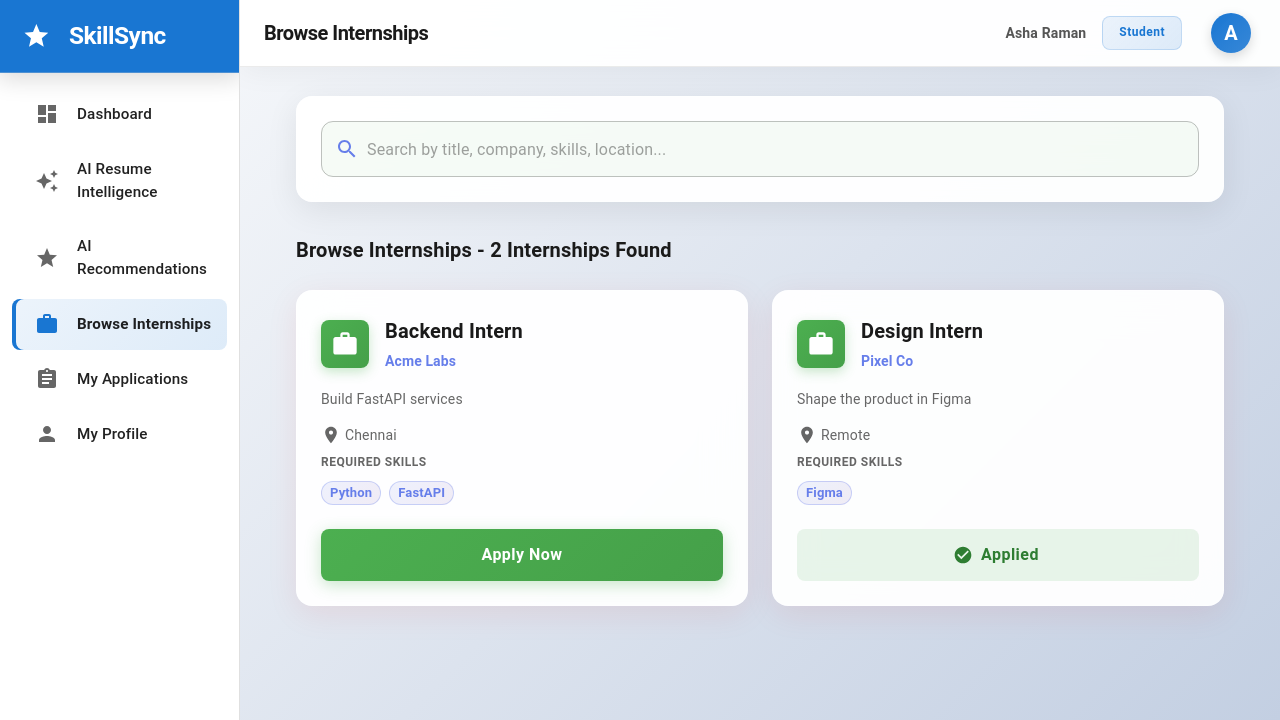
Test: a student sees which internships they already applied to, and the list updates after applying
Expected: the button "Applied" is disabled, [797,529,1199,581]
Click the button "Apply Now": point(522, 555) [321,529,723,581]
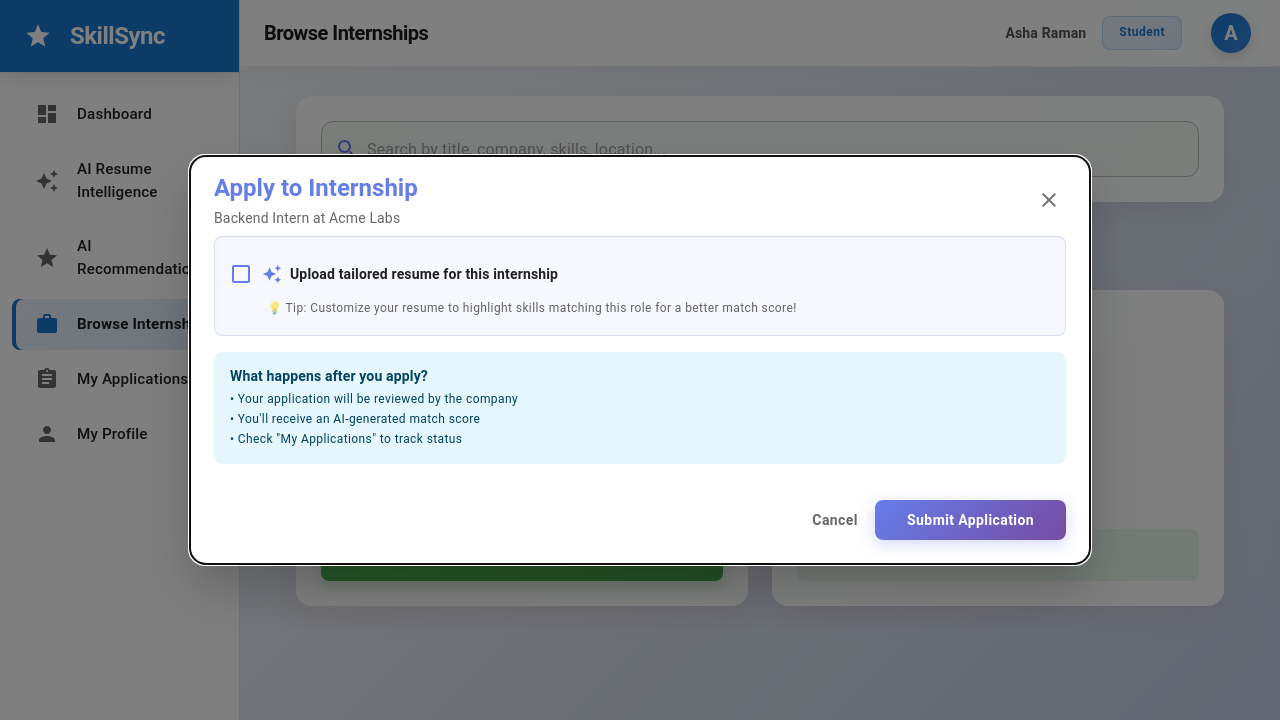
Click the button "Submit Application": point(971, 520) [875,500,1066,540]
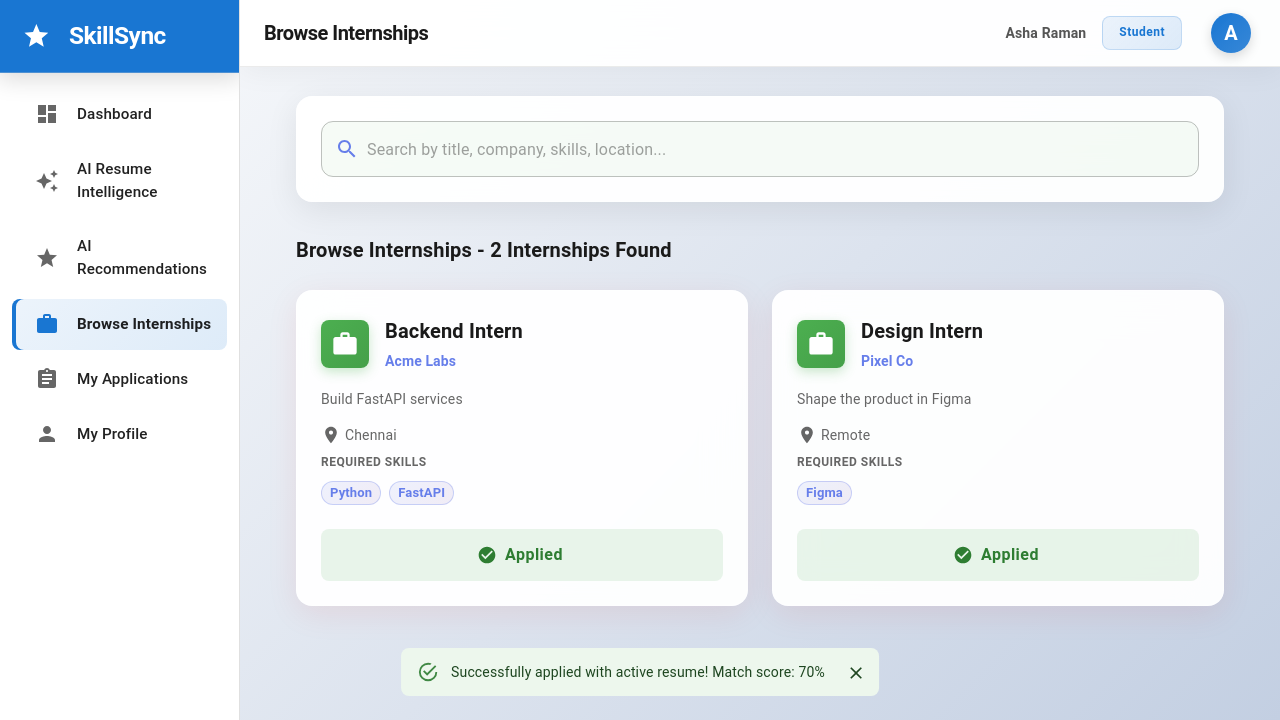
Result: the number of buttons "Applied" is 2 at [321,529,723,581]; [797,529,1199,581]
Result: the button "Apply Now" is gone
